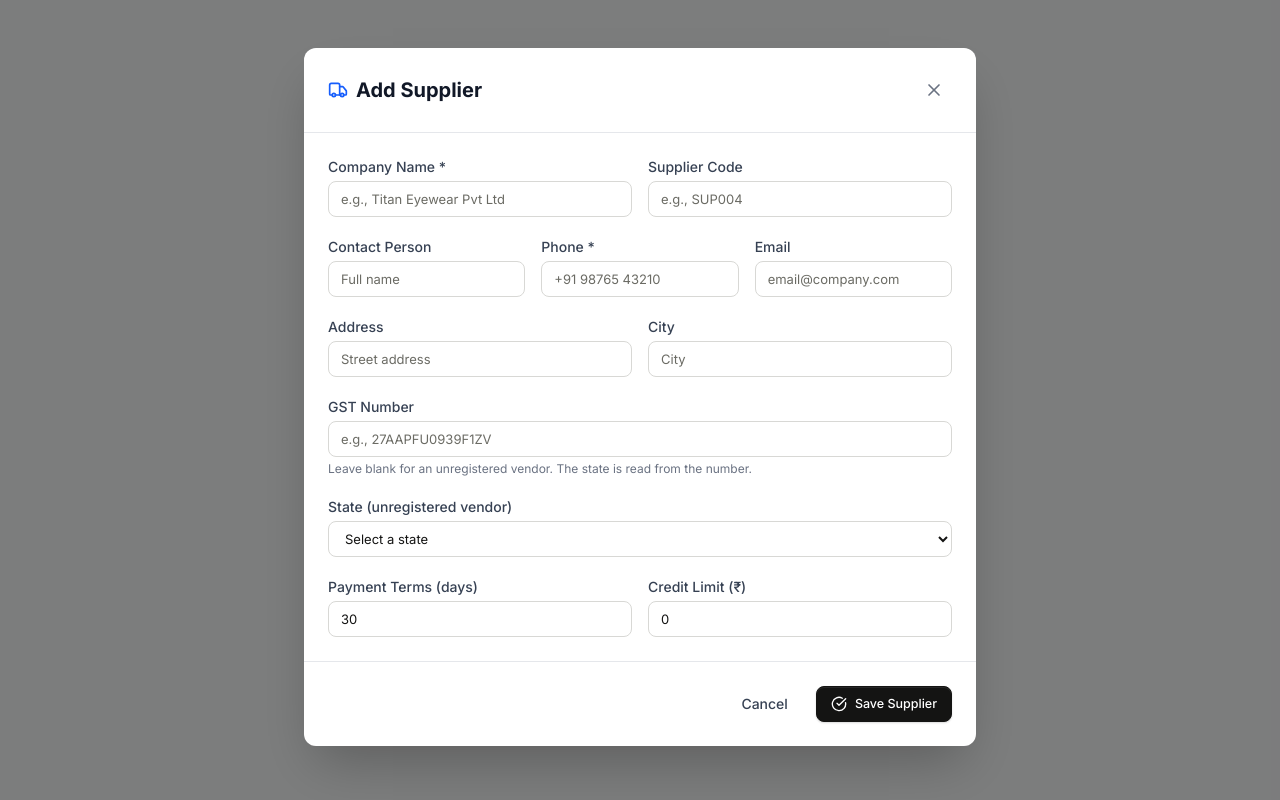
Test: SupplierFormModal state-from-GSTIN › shows the state the GSTIN encodes, without the user picking one
Type "27AAPFU0939F1ZV" into the field labelled "GST Number" at (640, 439), box [328,421,952,457]
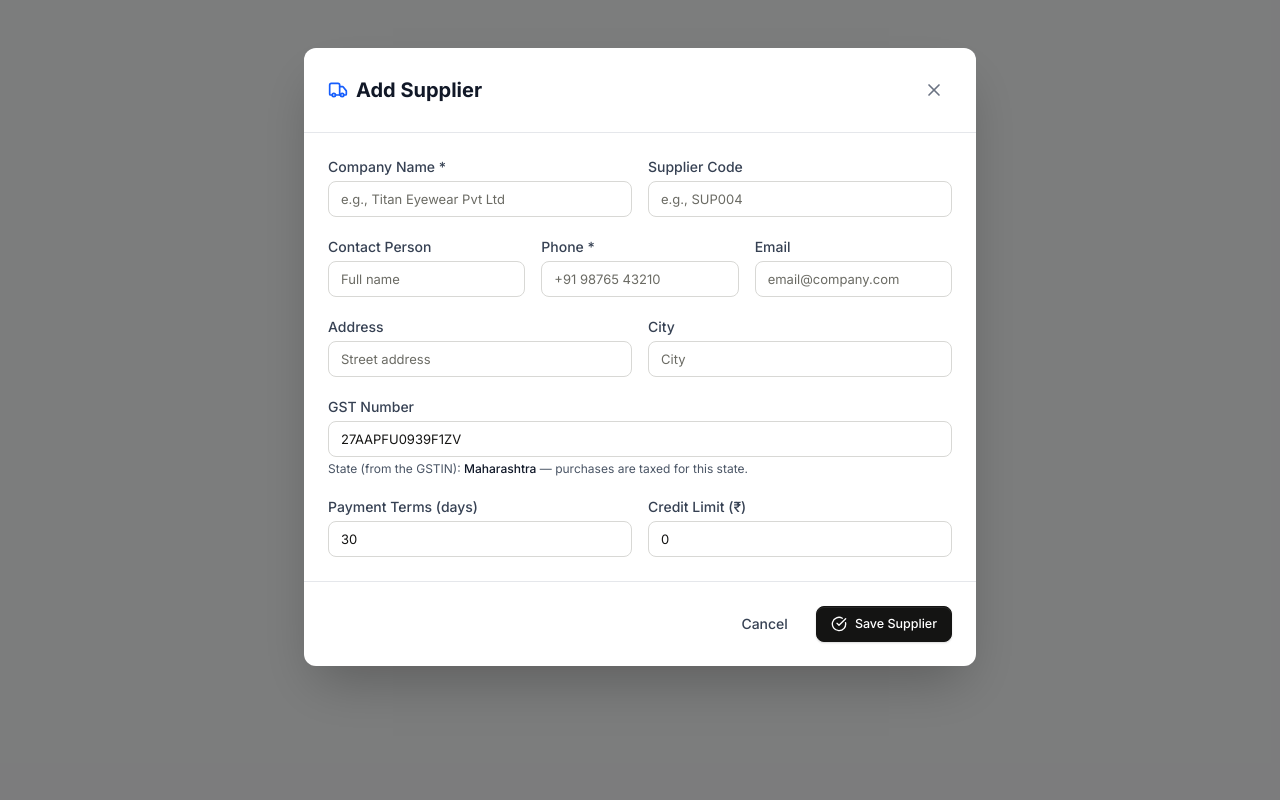
Expected: the text "Maharashtra" is shown, [464,461,536,476]
